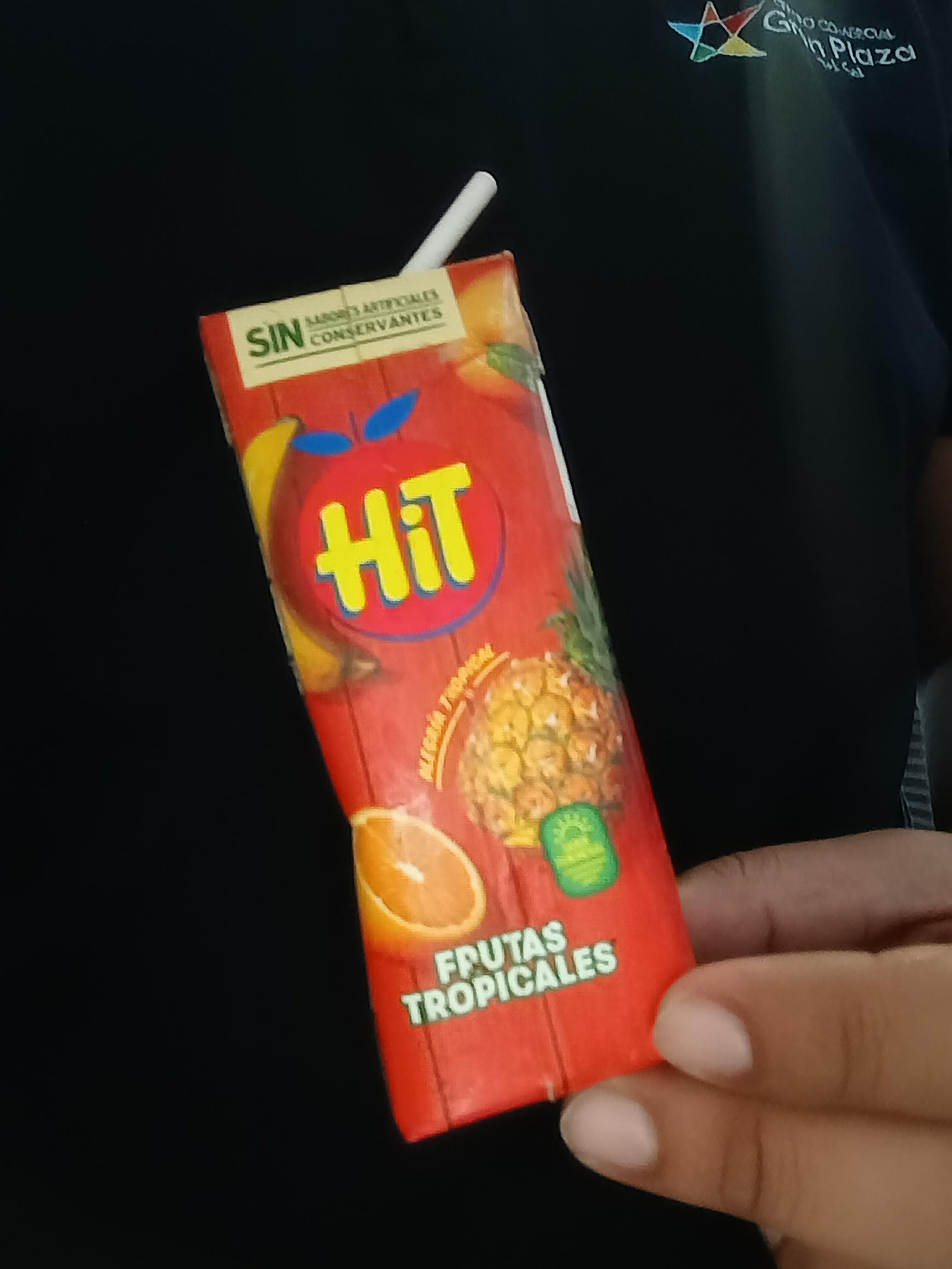Carton: (195, 251, 728, 1142)
